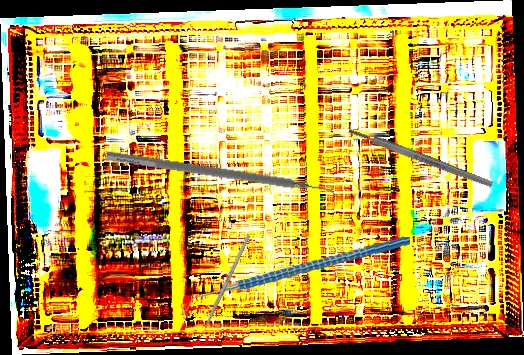Chopper: (179, 221, 411, 332)
Pusher: (195, 234, 251, 346)
Scalpel Handle: (347, 125, 494, 190)
Spatula Surgical: (104, 150, 342, 204)
